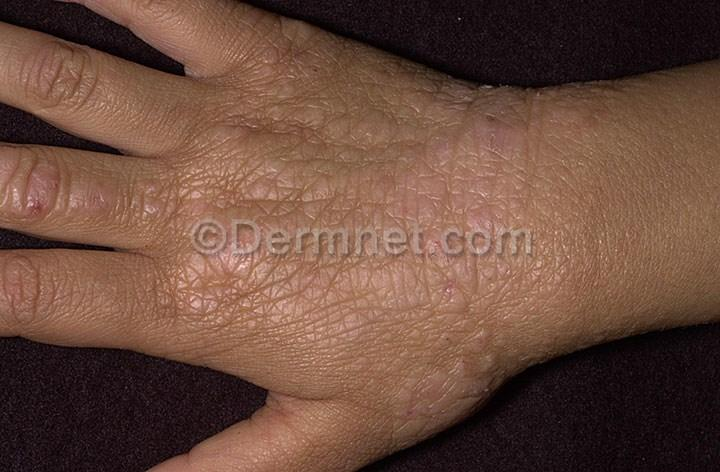excoriacion 1: (186, 118, 542, 328), (389, 335, 496, 438)
exudacion 1: (24, 195, 45, 215)
liquenificacion 1: (182, 49, 559, 339)
